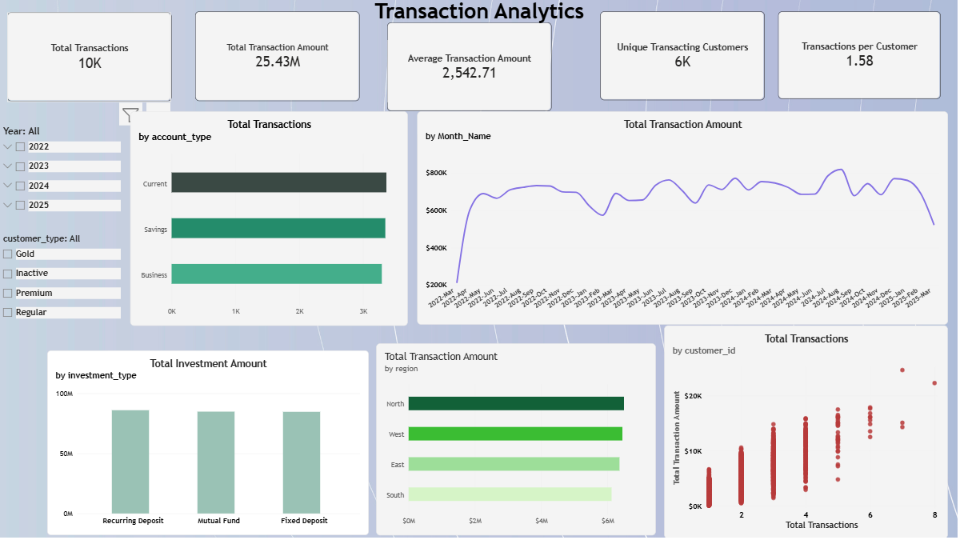

Layout of this report page (visuals, bound fields, positions):
{"tool":"powerbi","page":{"name":"Transaction Analytics","canvas":[1920,1080],"ordinal":2},"visuals":[{"type":"cardVisual","fields":{"Data":["transaction_cleaned.Total Transactions"]},"box":[16.3,28.6,328.6,177.6],"z":0},{"type":"cardVisual","fields":{"Data":["transaction_cleaned.Total Transaction Amount"]},"box":[391.8,26.5,328.6,179.6],"z":1000},{"type":"cardVisual","fields":{"Data":["customer_features.Average Transaction Amount"]},"box":[775.5,49,328.6,177.6],"z":2000},{"type":"cardVisual","fields":{"Data":["transaction_cleaned.Unique Transacting Customers"]},"box":[1202,26.5,328.6,177.6],"z":3000},{"type":"cardVisual","fields":{"Data":["transaction_cleaned.Transactions per Customer"]},"box":[1557.1,26.5,324.5,175.5],"z":4000},{"type":"lineChart","title":"Total Transaction Amount","fields":{"Category":["Date_Table.Month_Name"],"Y":["transaction_cleaned.Total Transaction Amount"]},"box":[836.7,226.5,1061.2,426.5],"z":5000},{"type":"clusteredBarChart","title":"Total Transactions","fields":{"Category":["transaction_cleaned.account_type"],"Y":["transaction_cleaned.Total Transactions"]},"box":[261.2,226.5,555.1,428.6],"z":6000},{"type":"columnChart","title":"Total Investment Amount","fields":{"Category":["transaction_cleaned.investment_type"],"Y":["transaction_cleaned.Total Investment Amount"]},"box":[95.9,704.1,642.9,369.4],"z":6001},{"type":"clusteredBarChart","fields":{"Category":["customer_features.region"],"Y":["transaction_cleaned.Total Transaction Amount"]},"box":[753.1,689.8,559.2,383.7],"z":6002},{"type":"scatterChart","title":"Total Transactions ","fields":{"Category":["transaction_cleaned.customer_id"],"X":["transaction_cleaned.Total Transactions"],"Y":["transaction_cleaned.Total Transaction Amount"]},"box":[1330.6,653.1,567.3,426.5],"z":6003},{"type":"slicer","fields":{"Values":["Date_Table.Year","Date_Table.Month_Name"]},"box":[0,253.1,242.9,185.7],"z":6004},{"type":"slicer","fields":{"Values":["customer_features.customer_type"]},"box":[0,469.4,242.9,200],"z":6005},{"type":"textbox","box":[0,0,1920.4,51],"z":6006}]}

Visuals, with their boxes in screenshot pixels (x1, y1, x2, y2), scaled from the page's 1920x1080 canvas onto the 958x538 screenshot:
cardVisual - transaction_cleaned.Total Transactions: 8/14/172/103
cardVisual - transaction_cleaned.Total Transaction Amount: 195/13/359/103
cardVisual - customer_features.Average Transaction Amount: 387/24/551/113
cardVisual - transaction_cleaned.Unique Transacting Customers: 600/13/764/102
cardVisual - transaction_cleaned.Transactions per Customer: 777/13/939/101
"Total Transaction Amount" lineChart: 417/113/947/325
"Total Transactions" clusteredBarChart: 130/113/407/326
"Total Investment Amount" columnChart: 48/351/369/535
clusteredBarChart - customer_features.region x transaction_cleaned.Total Transaction Amount: 376/344/655/535
"Total Transactions " scatterChart: 664/325/947/537
slicer - Date_Table.Year x Date_Table.Month_Name: 0/126/121/219
slicer - customer_features.customer_type: 0/234/121/333
textbox: 0/0/957/25
